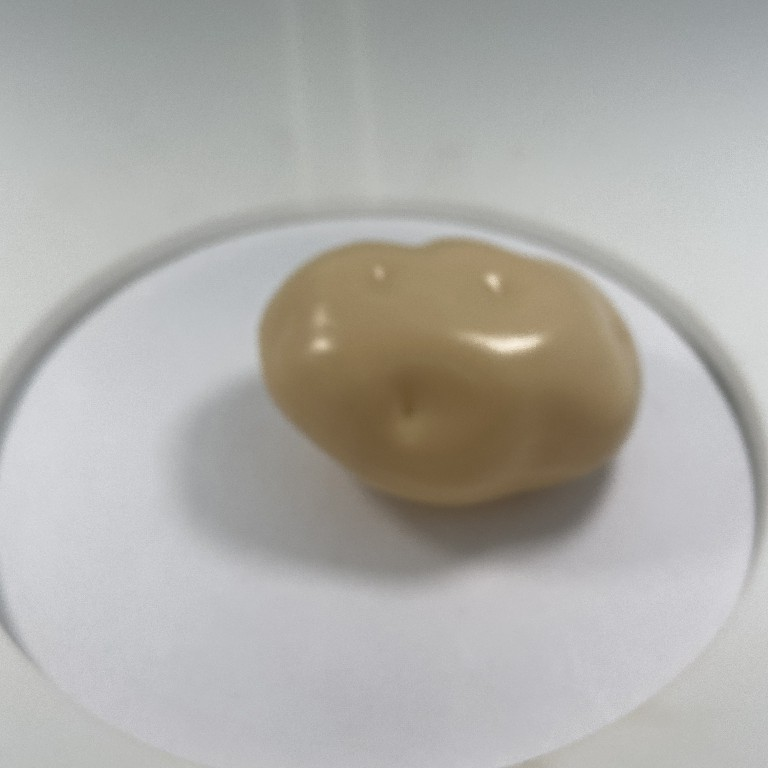fruit_potato: (250, 231, 646, 510)
